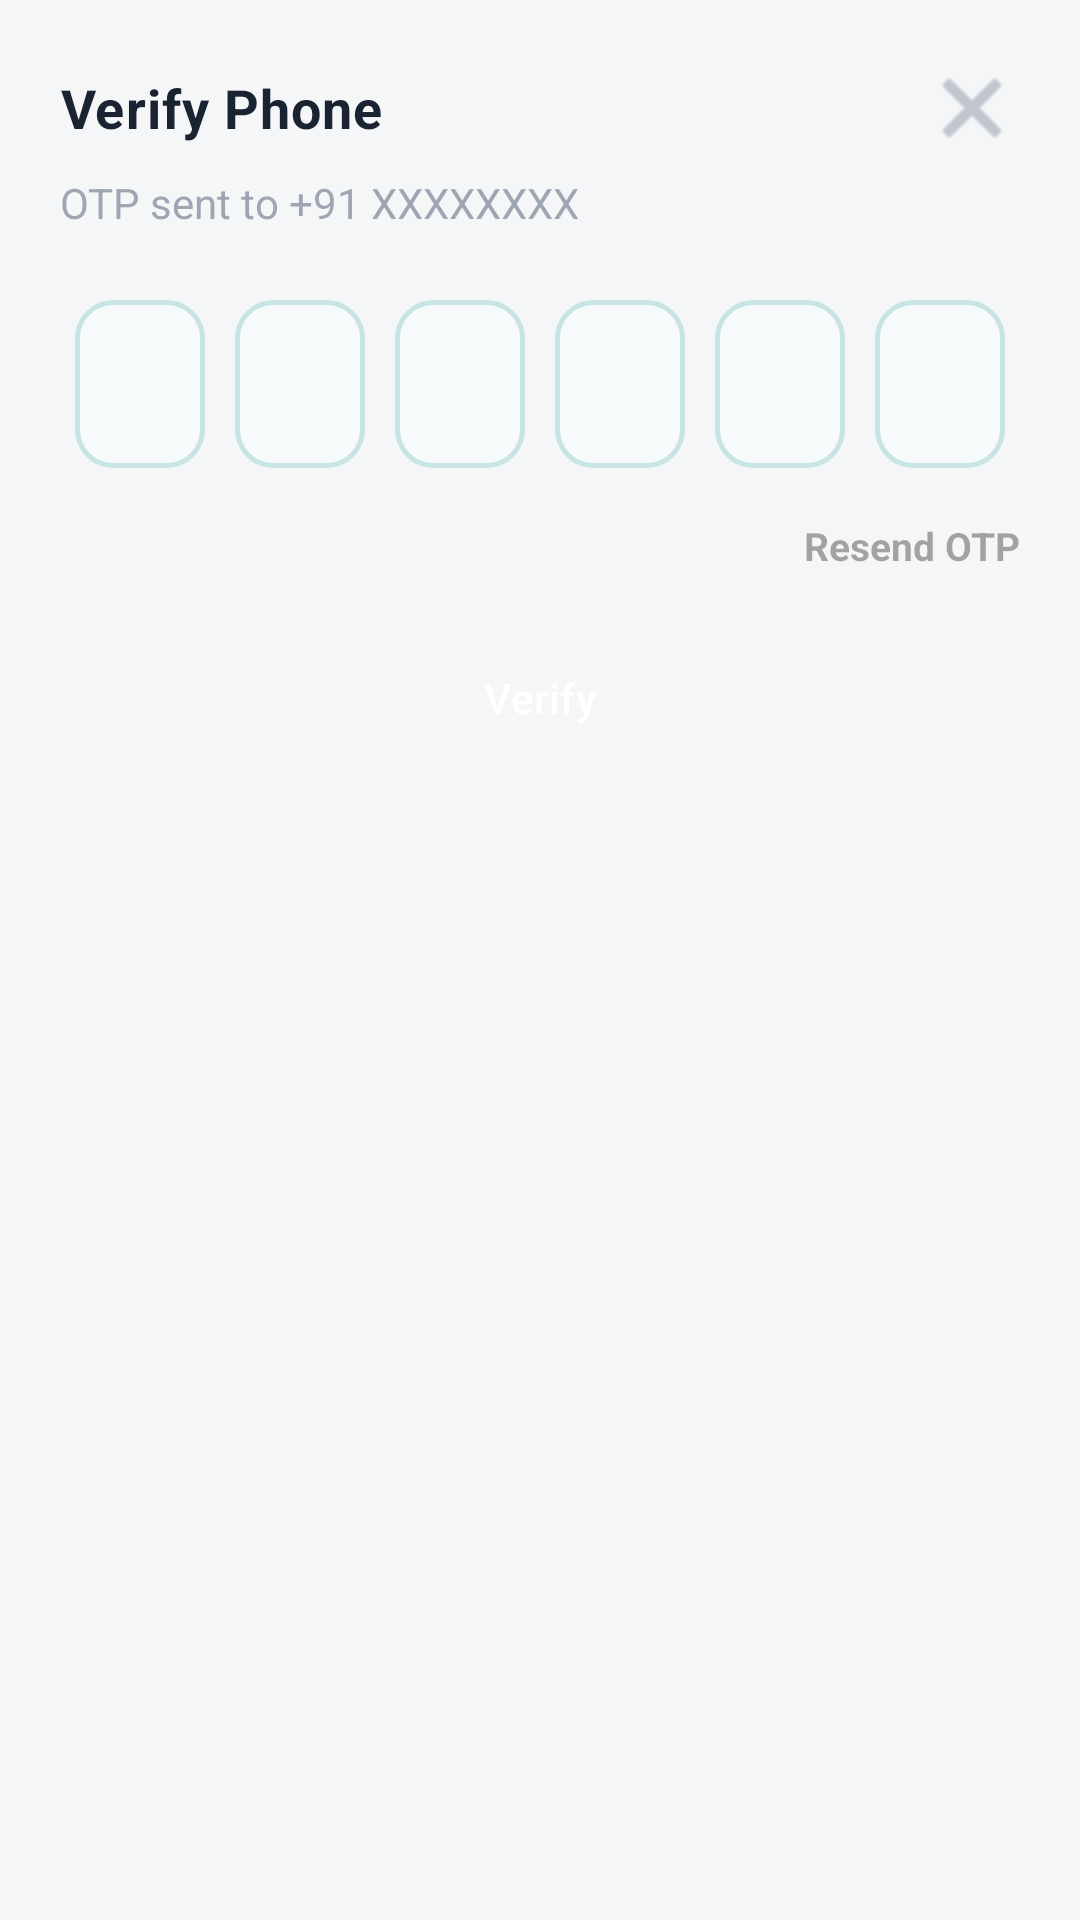

Icon click points for this 1080w x 1920h phone screenshot, format (x,y):
Close: (972,108)
